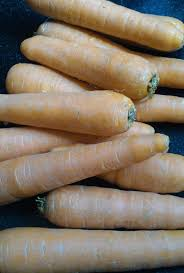carrot: (1, 137, 176, 192), (14, 35, 158, 91), (6, 228, 184, 268), (34, 186, 184, 232), (29, 1, 170, 41), (1, 98, 140, 128)
